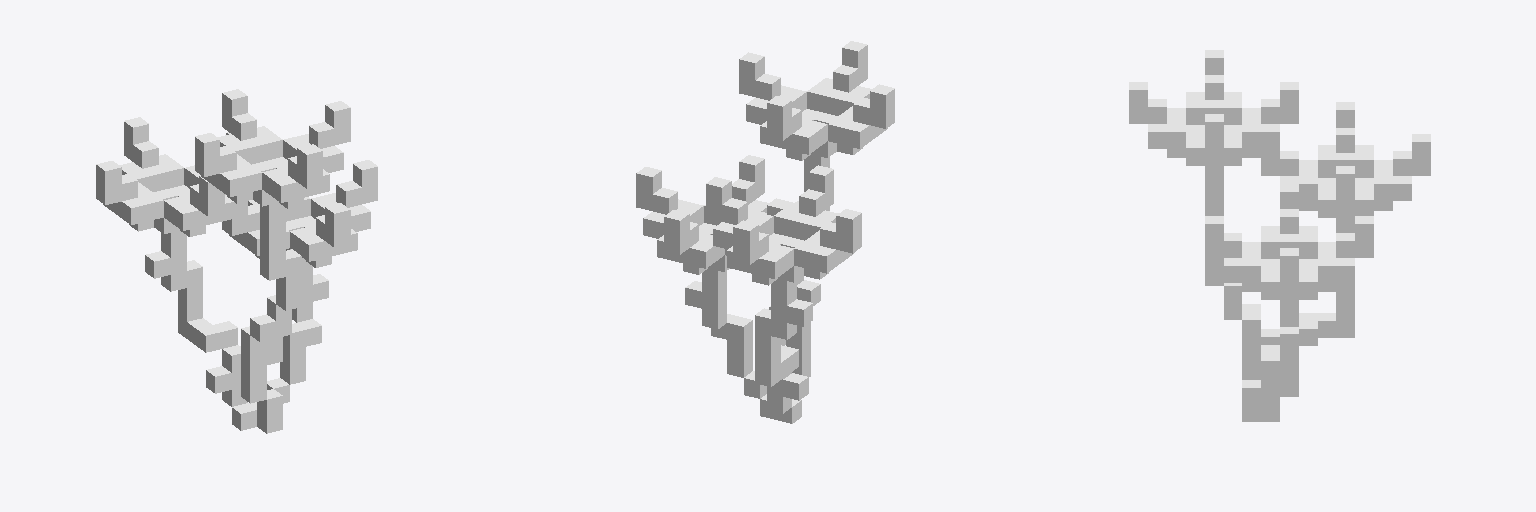
The model's file is flores_azul.obj.
3 views of the same model, side by side, from view 1: azimuth 30°, elevation 25°; view 2: azimuth 150°, elevation 25°; view 3: azimuth 270°, elevation 25° (orthographic).
Parts seen in each view (by area): view 1: object 1; view 2: object 1; view 3: object 1.
Part boxes in pixels (x1,y1,x2,y2): object 1: (96, 89, 377, 433); object 1: (636, 41, 894, 423); object 1: (1129, 50, 1430, 421).
Bounding box in the file's own units: 1.5 × 1.9 × 1.6.